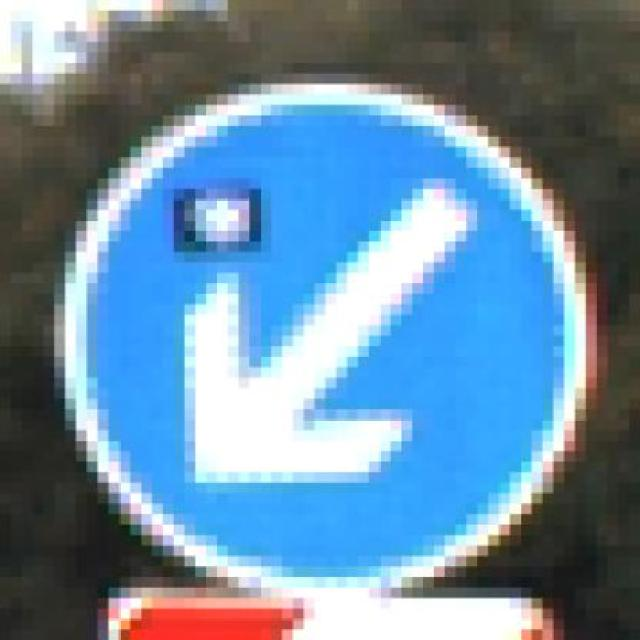Keep-Left: (54, 41, 608, 588)
